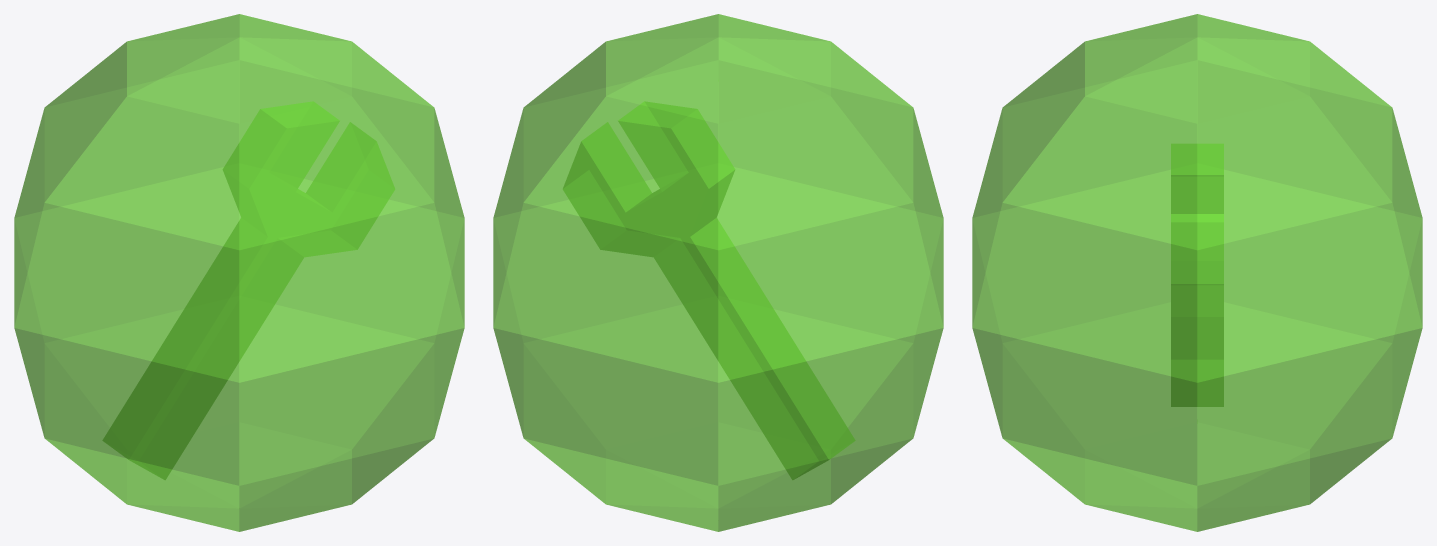
Rendered from Heal.fbx.
3 renders of one model, left to right at view 1: azimuth 30°, elevation 25°; view 2: azimuth 150°, elevation 25°; view 3: azimuth 270°, elevation 25°, orthographic.
Visible parts, largest first — view 1: Ball_geo, Wrench_geo; view 2: Ball_geo, Wrench_geo; view 3: Ball_geo, Wrench_geo.
Boxes of the visible parts, x1,y1,x2,y2 form: Ball_geo: (14, 14, 464, 531); Wrench_geo: (102, 101, 394, 479); Ball_geo: (493, 14, 943, 531); Wrench_geo: (563, 101, 855, 479); Ball_geo: (972, 14, 1422, 531); Wrench_geo: (1171, 144, 1223, 406).
Size of the model in its own units: 5.16 by 5.16 by 4.46.
